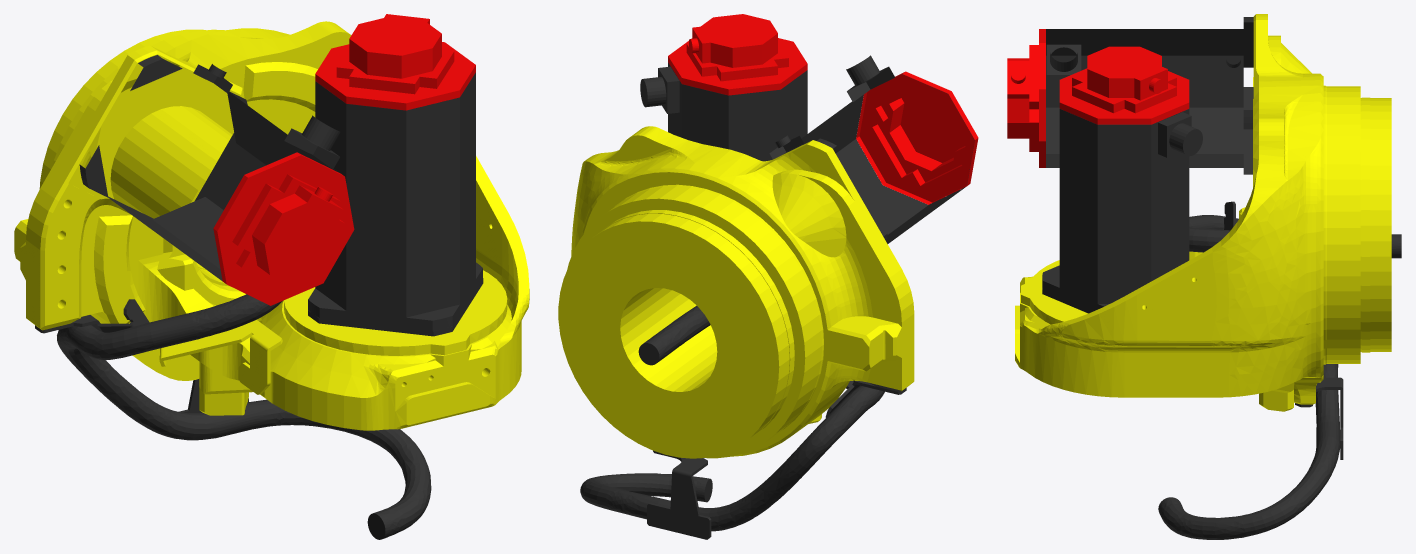
The picture shows the model from 3 angles, left to right: view 1: azimuth 30°, elevation 25°; view 2: azimuth 150°, elevation 25°; view 3: azimuth 270°, elevation 25°; orthographic projection. The views are drawn at different scales.
Parts seen in each view (by area): view 1: node; view 2: node; view 3: node.
Boxes of the visible parts, box(x1,y1,x2,y2) form: node: box(14, 14, 529, 539); node: box(558, 14, 978, 539); node: box(1007, 14, 1401, 539).
Bounding box in the file's own units: 402 × 502 × 396.
